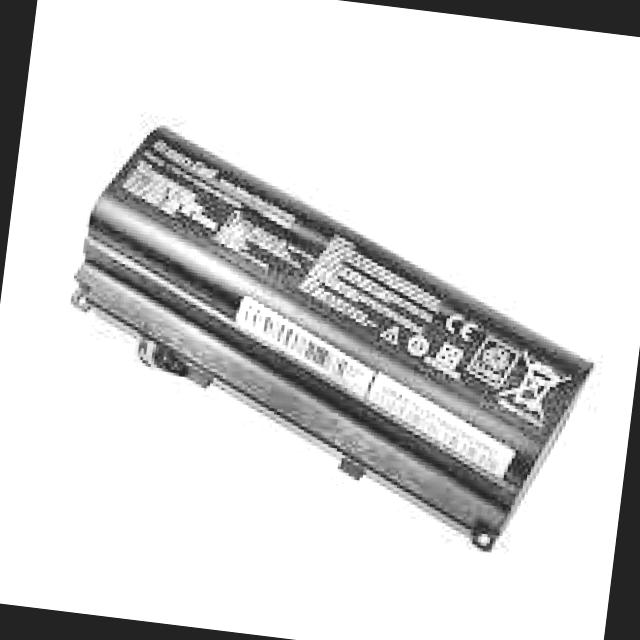Battery: (54, 120, 615, 547)
